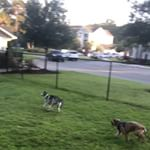puppy: (106, 114, 150, 144), (35, 87, 67, 115)
